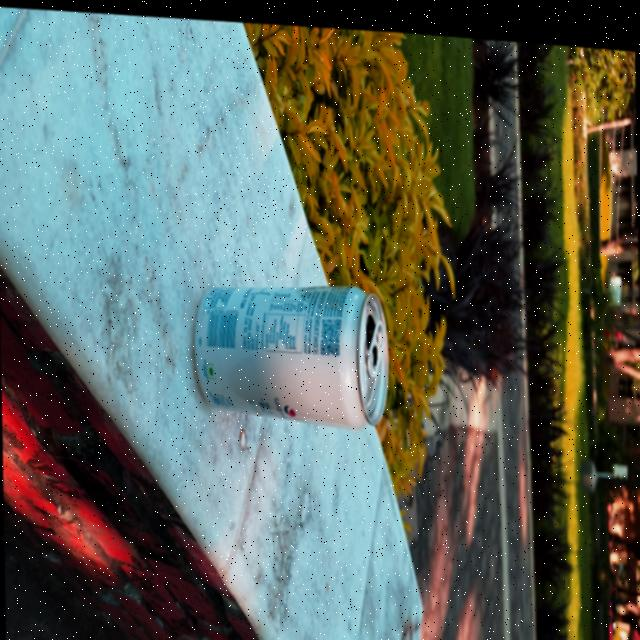Pepsi Retro: (195, 269, 388, 428)
